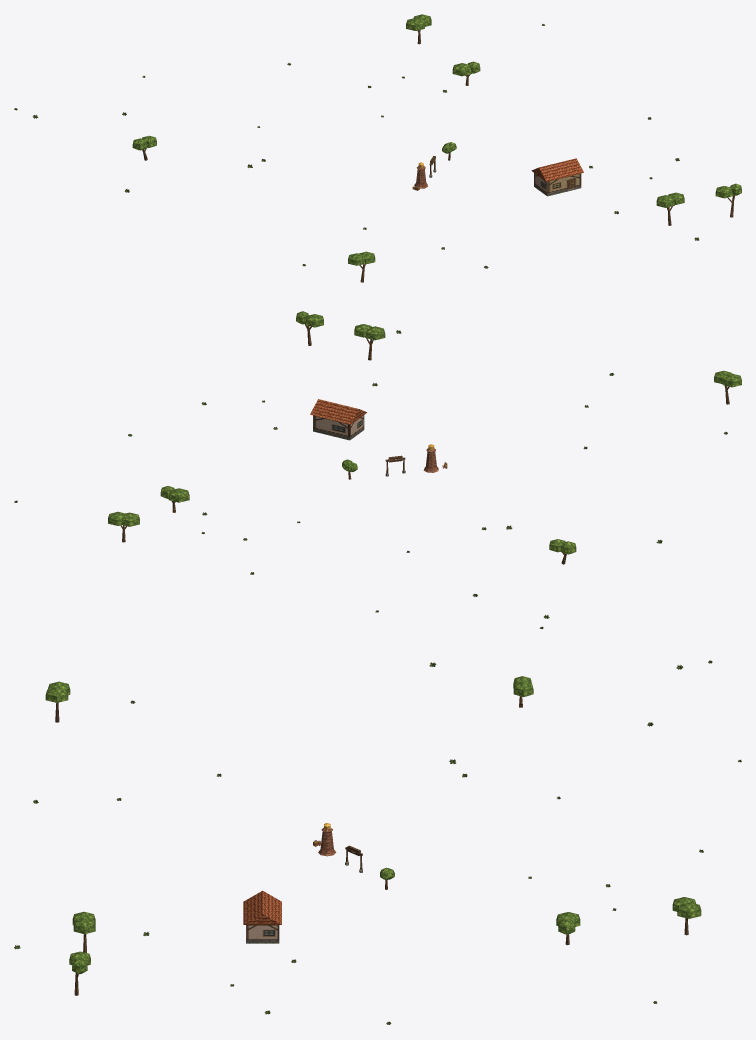
The model's file is FieldCell_0_4.fbx.
The picture shows the model from 3 angles, top to bottom: view 1: azimuth 30°, elevation 25°; view 2: azimuth 150°, elevation 25°; view 3: azimuth 270°, elevation 25°; orthographic projection. The views are drawn at different scales.
Visible parts, largest first — view 1: FieldCell_0_4; view 2: FieldCell_0_4; view 3: FieldCell_0_4.
Boxes of the visible parts, x1=… form: FieldCell_0_4: x1=132, y1=14, x2=741, y2=282; FieldCell_0_4: x1=108, y1=311, x2=741, y2=564; FieldCell_0_4: x1=45, y1=676, x2=701, y2=995.
Bounding box in the file's own units: 13784 × 1702 × 13527.
